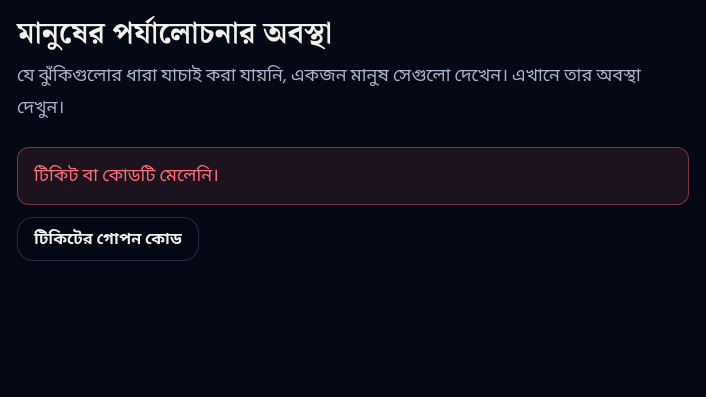
Test case: TicketPage › FR-61 says the ticket or code did not match, and lets the reader try the code again
Expected: the message reads "টিকিট বা কোডটি মেলেনি।", [34,161,219,190]
Click the button "টিকিটের গোপন কোড": click(108, 238) [17,216,199,260]
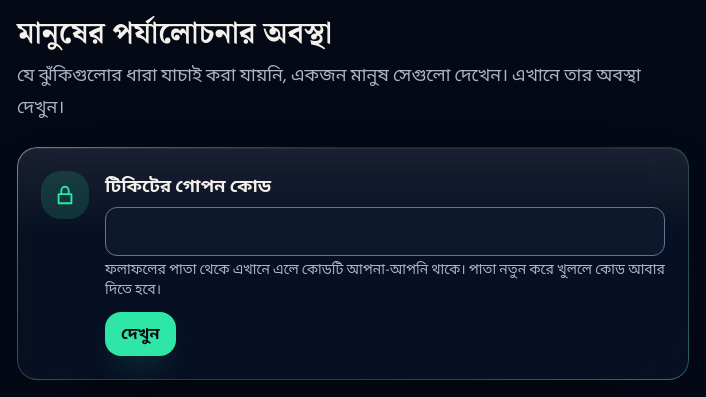
Expected: the field labelled "টিকিটের গোপন কোড" is shown, [105,206,665,256]
